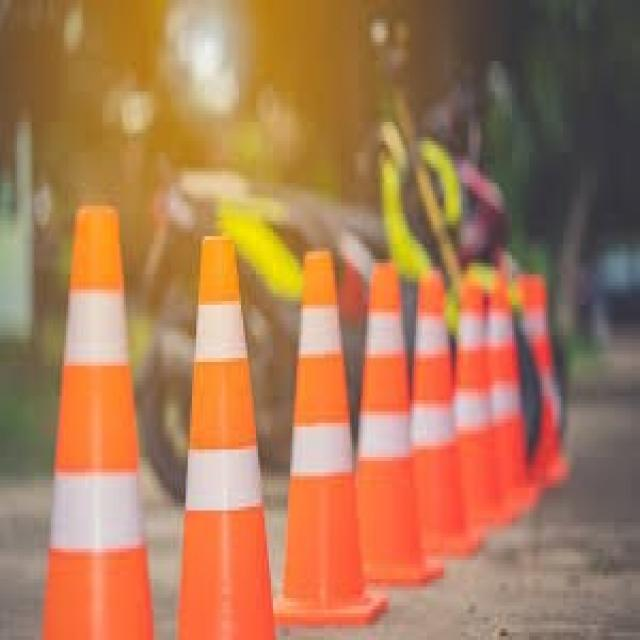Traffic-cone: (47, 192, 156, 640), (182, 198, 276, 640), (287, 232, 351, 630), (356, 231, 413, 606), (416, 264, 453, 562), (519, 277, 571, 488), (490, 276, 528, 527), (457, 274, 486, 549)
